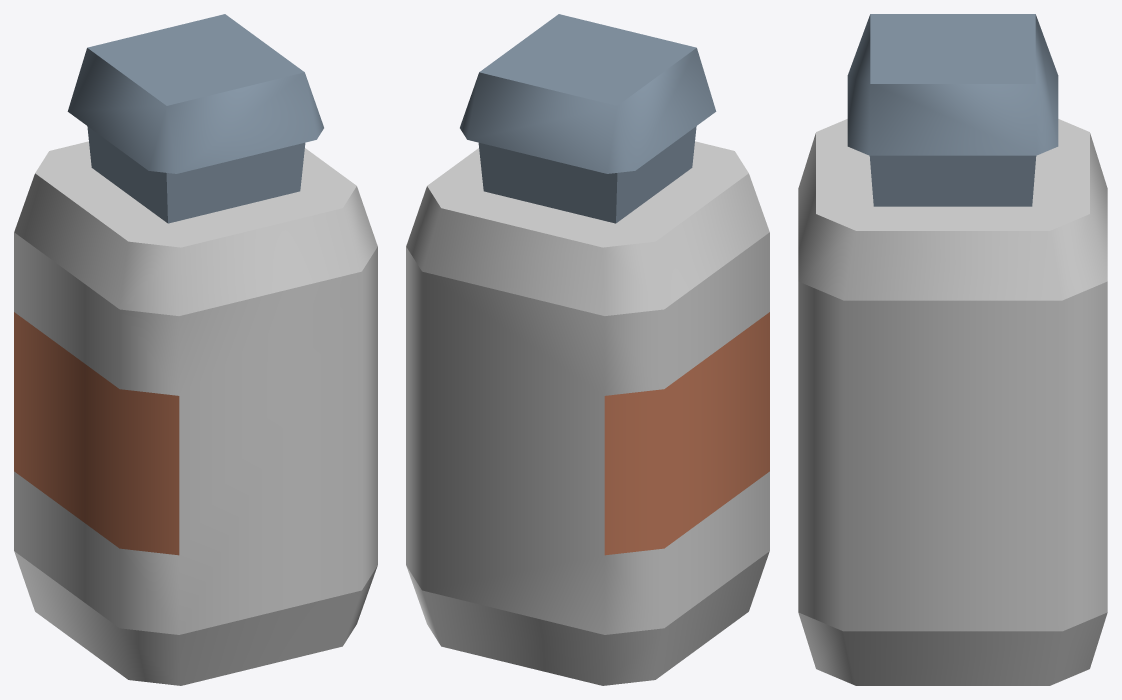
File: shakerPepper.GLB
The picture shows the model from 3 angles, left to right: view 1: azimuth 30°, elevation 25°; view 2: azimuth 150°, elevation 25°; view 3: azimuth 270°, elevation 25°; orthographic projection. The views are drawn at different scales.
Parts seen in each view (by area): view 1: shakerPepper; view 2: shakerPepper; view 3: shakerPepper.
Part boxes in pixels (x1=…): shakerPepper: x1=14, y1=14, x2=377, y2=685; shakerPepper: x1=406, y1=14, x2=769, y2=685; shakerPepper: x1=798, y1=14, x2=1107, y2=685.
Bounding box in the file's own units: 0.0949 × 0.196 × 0.0949.
